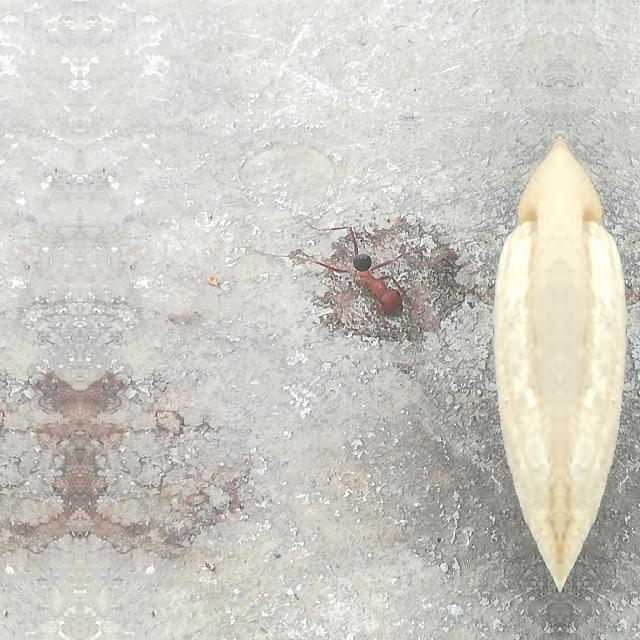Cataglyphis: (334, 227, 410, 327)
